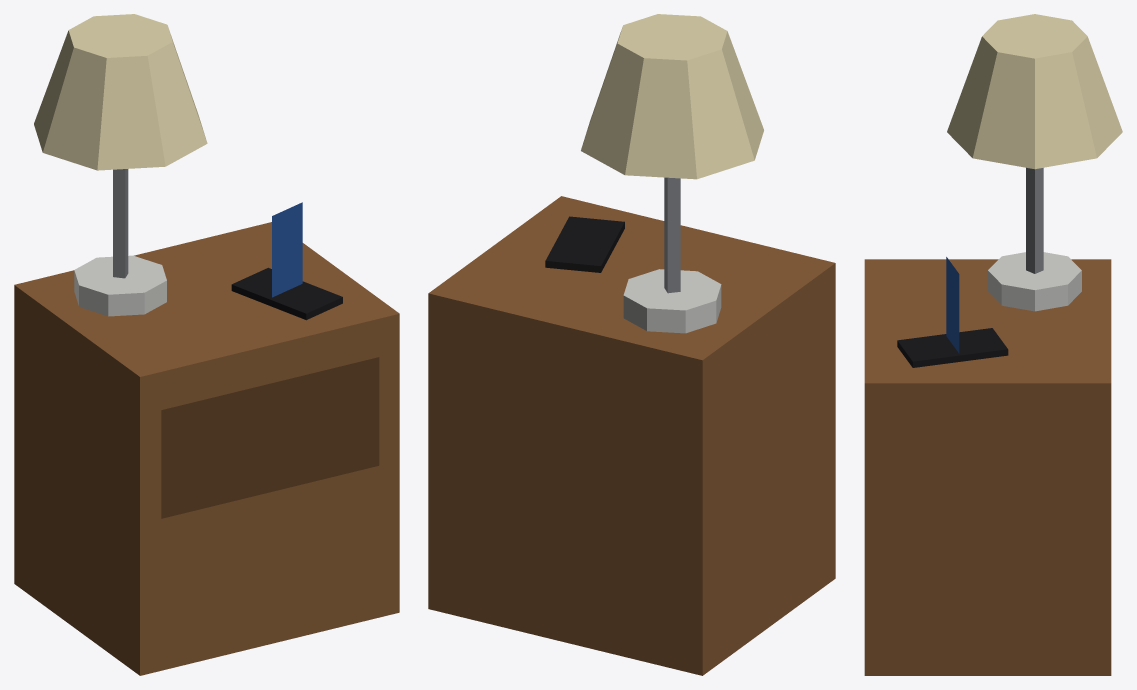
Rendered from prop_side-table.glb.
3 renders of one model, left to right at view 1: azimuth 30°, elevation 25°; view 2: azimuth 150°, elevation 25°; view 3: azimuth 270°, elevation 25°, orthographic. The views are drawn at different scales.
Visible parts, largest first — view 1: body; view 2: body; view 3: body.
Boxes of the visible parts, box(x1,y1,x2,y2) form: body: box(14, 14, 399, 675); body: box(428, 14, 835, 675); body: box(864, 14, 1122, 675).
Size of the model in its own units: 0.52 by 1.03 by 0.441.
